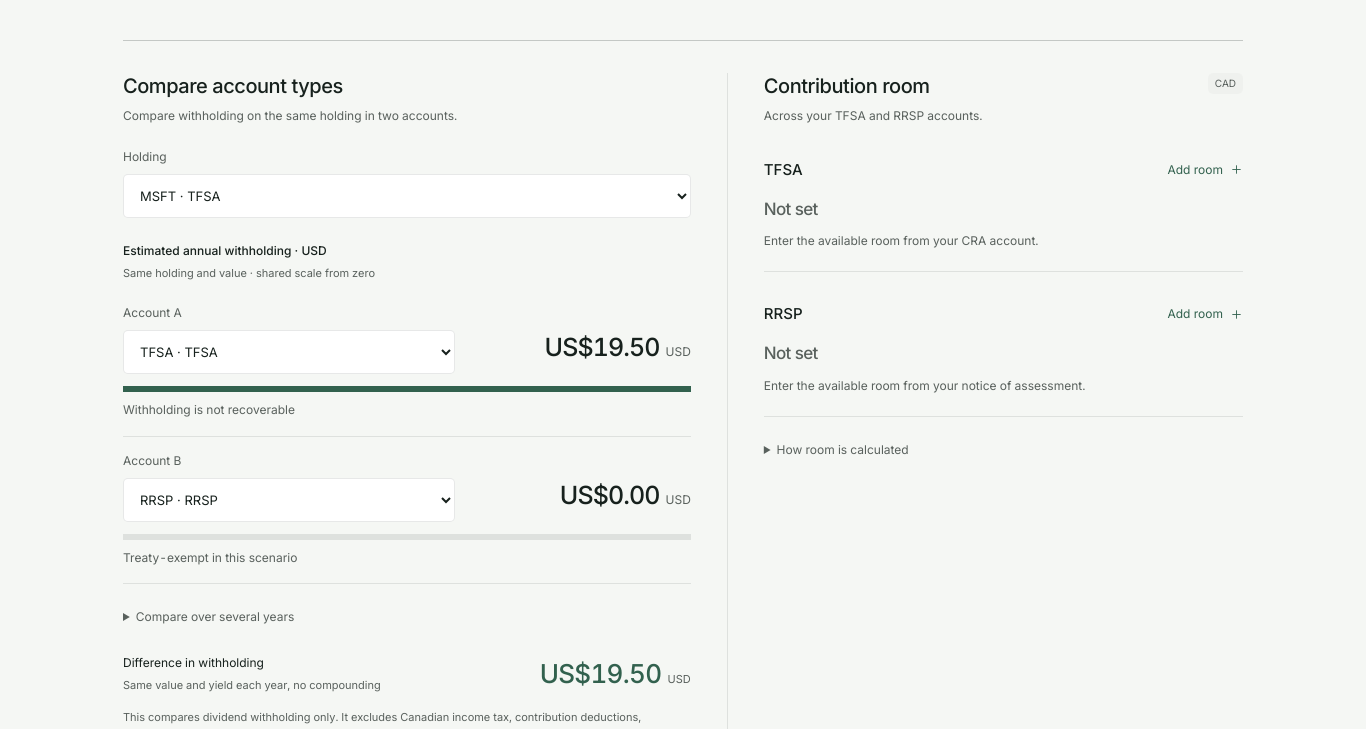
Test: Tax navigation and hierarchy › compares distinct accounts and starts with a one-year illustration
(page scrolled)
Expected: the element "Compare account types" shows "$19.50", [544,332,660,362]
Select "RRSP · RRSP" in the dropdown labelled "Account A". click: (289, 352)
box: [123,330,455,374]
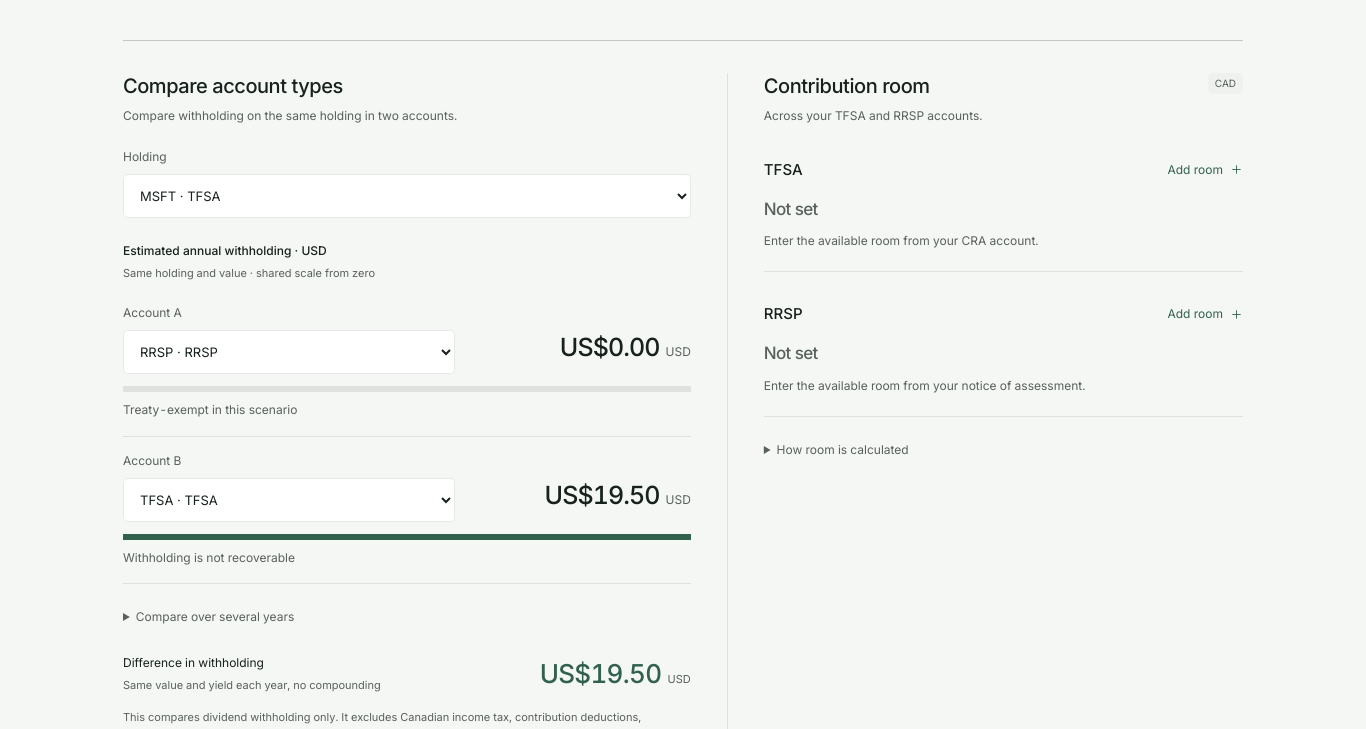
Now the dropdown labelled "Account B" shows "TFSA · TFSA", box [123,478,455,522]
Click the heading "Compare over several years". click: (215, 617)
box: [136,609,294,624]
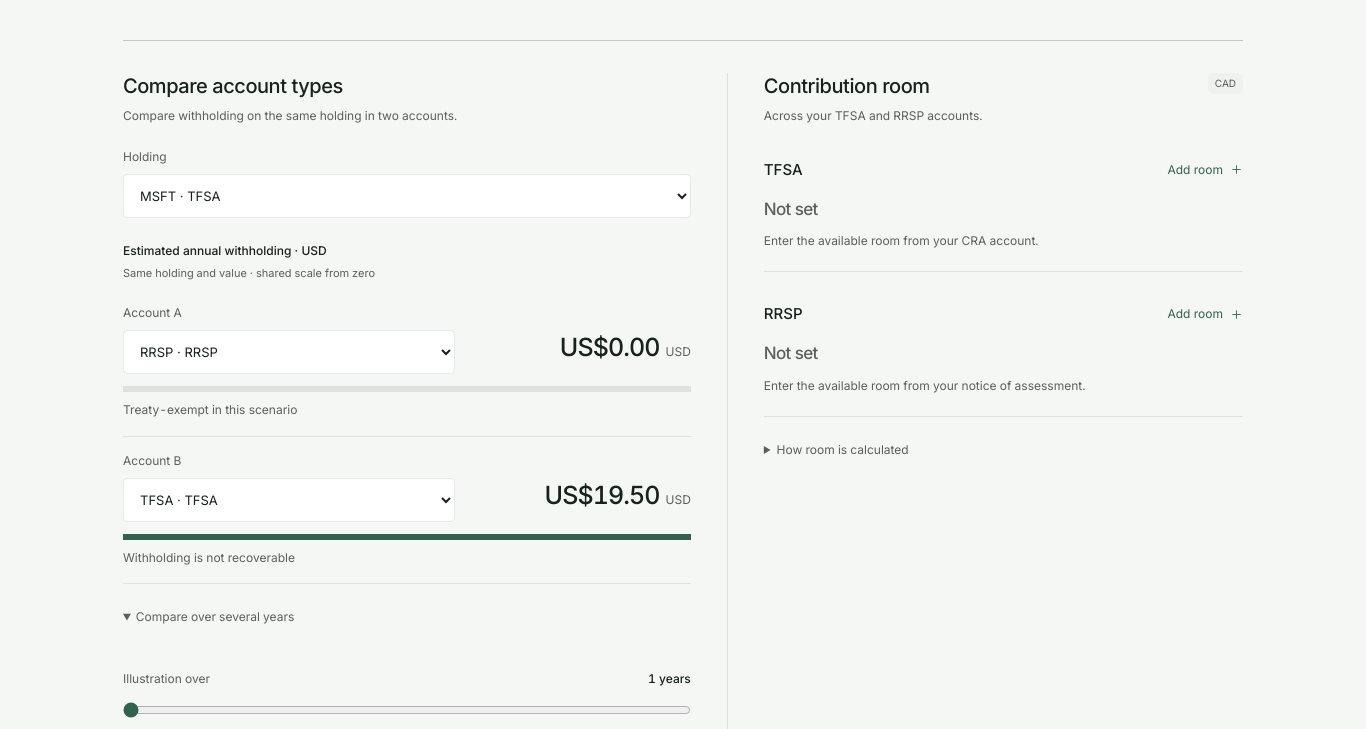
Set the slider to "20". click: (493, 710)
box: [123,702,691,718]
(page scrolled)
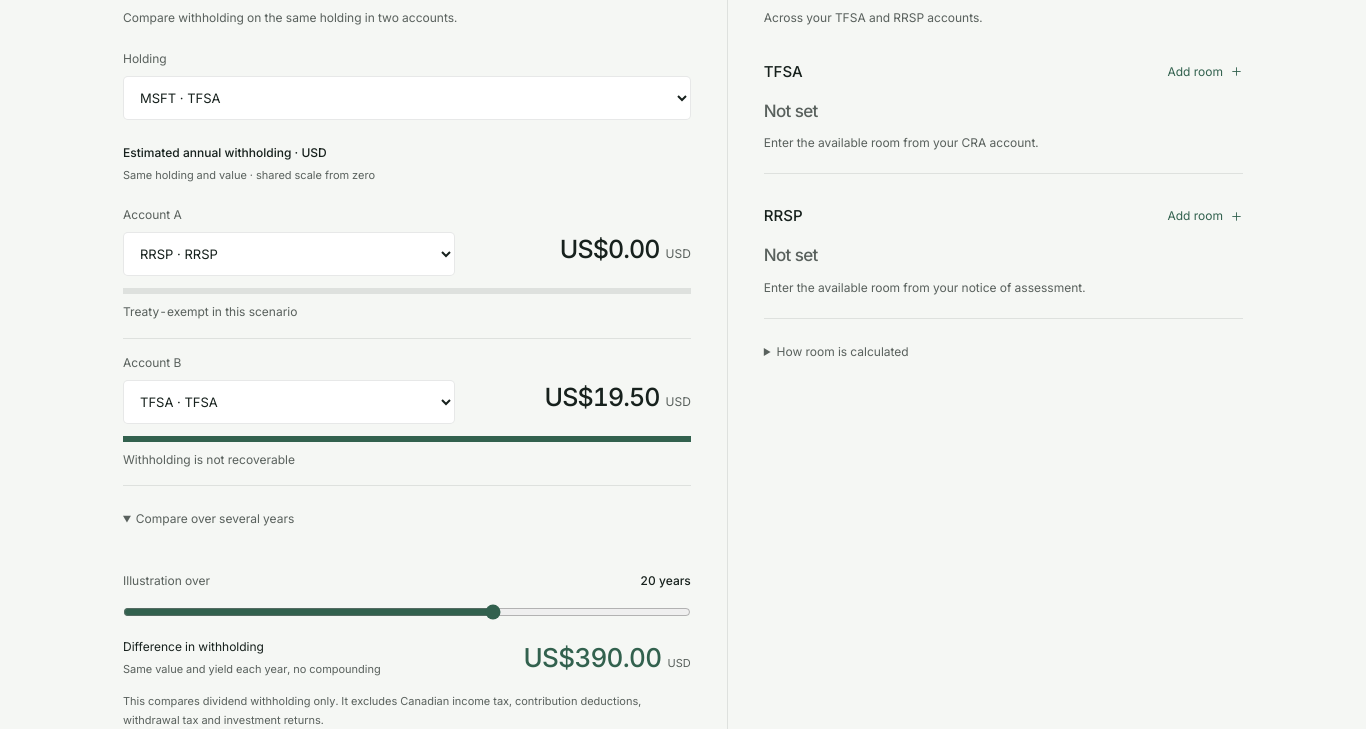
Now the element "Compare account types" shows "$390.00", box [524,642,661,673]
